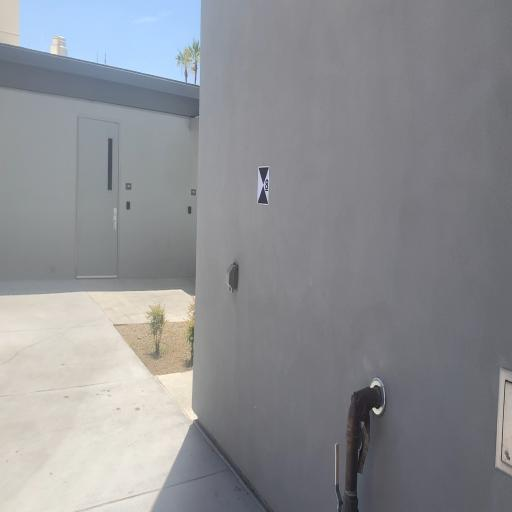target8: (258, 167, 270, 203)
